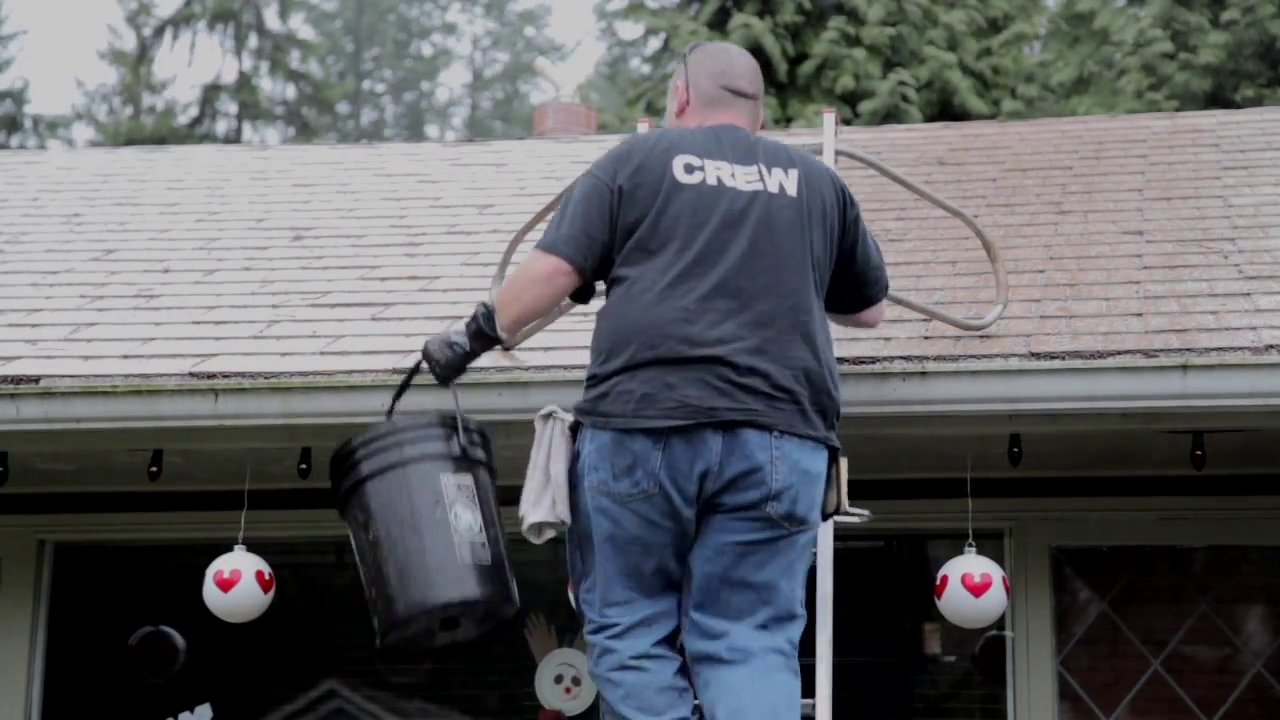person: (423, 41, 889, 720)
